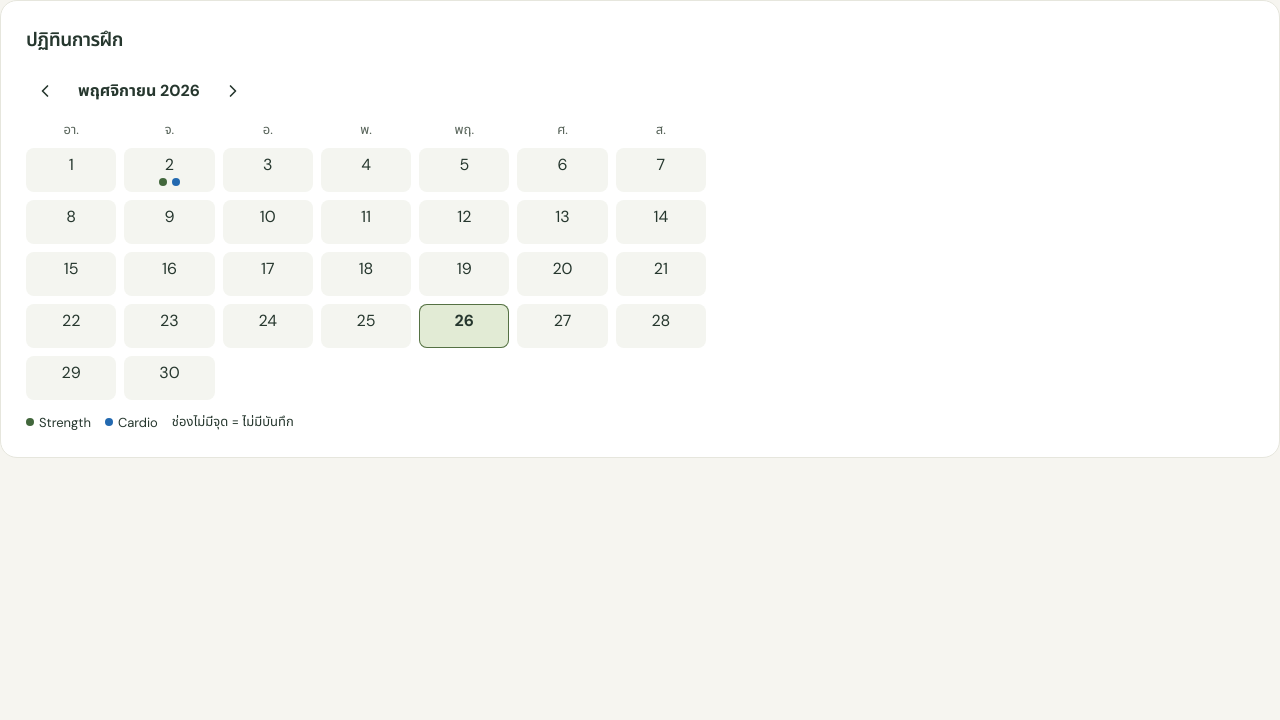
Scenario: shows both workout types on the actual date and opens the day's details
Later steps or results of the test are not shown.
Click the button "2" at (169, 170), box [124,148,215,192]
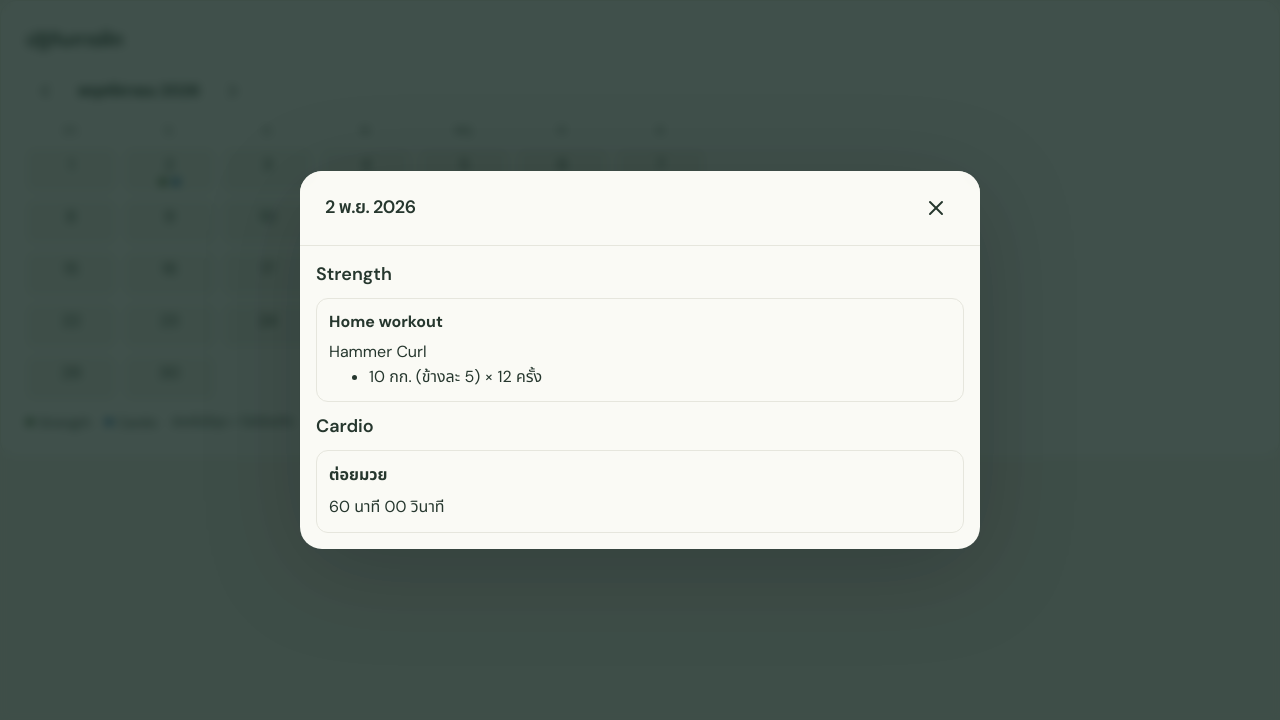
Check: the text "Hammer Curl" is shown, box [329,341,426,362]
Check: the list item "10 กก. (ข้างละ 5) × 12 ครั้ง" is shown, box [369,366,542,387]
Check: the text "ต่อยมวย" is shown, box [329,464,387,485]
Click the button named "ปิด" at (936, 208), box [917,189,955,227]
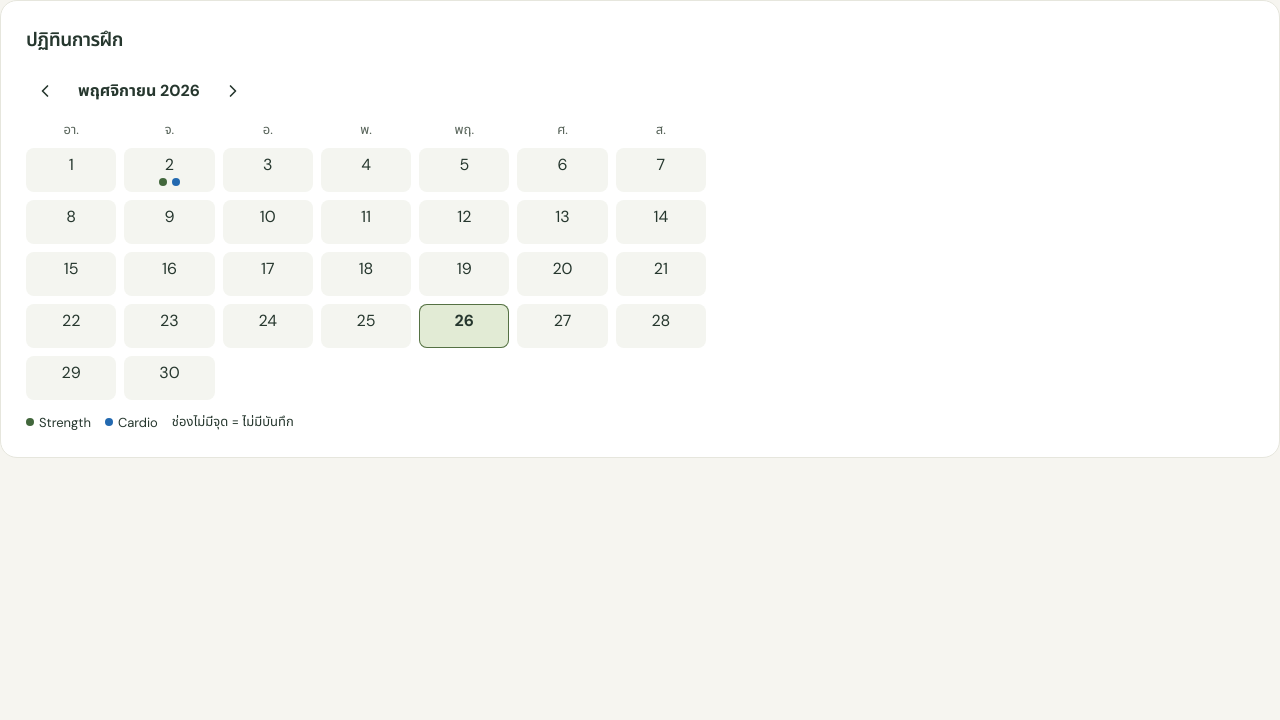
Click the button "3" at (268, 170), box [223,148,313,192]
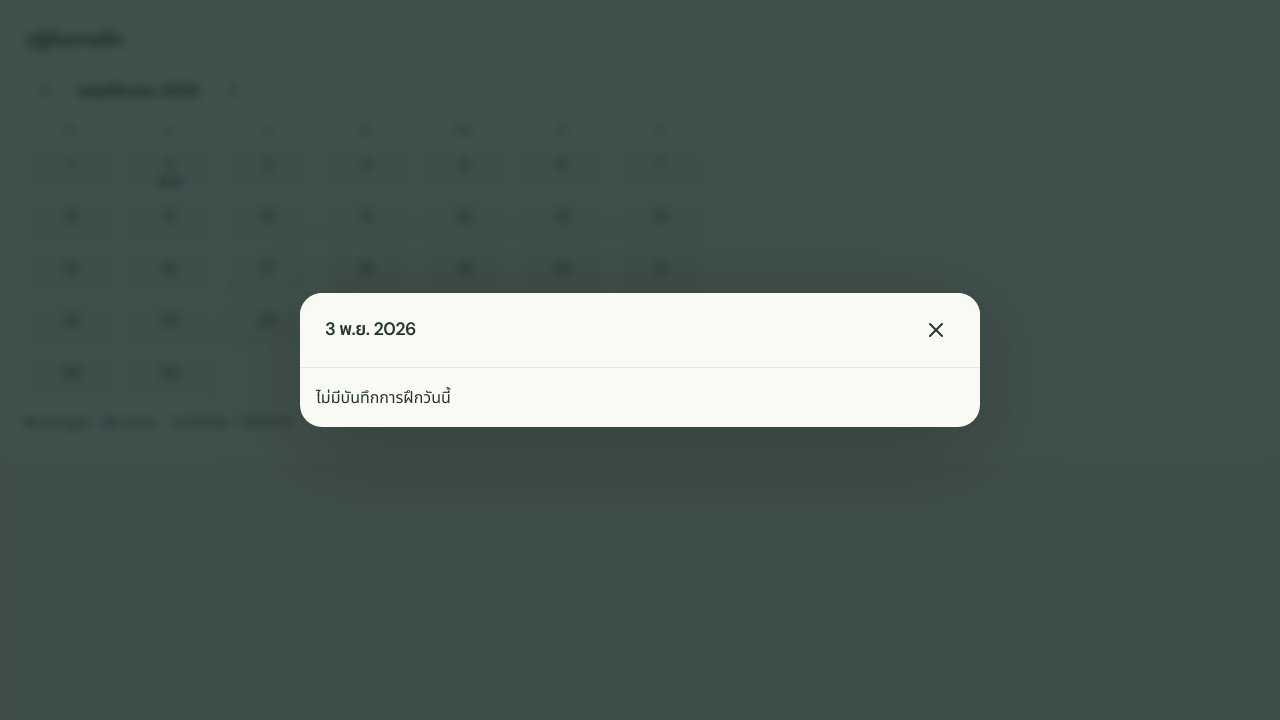
Check: the text "ไม่มีบันทึกการฝึกวันนี้" is shown, box [316,387,451,408]
